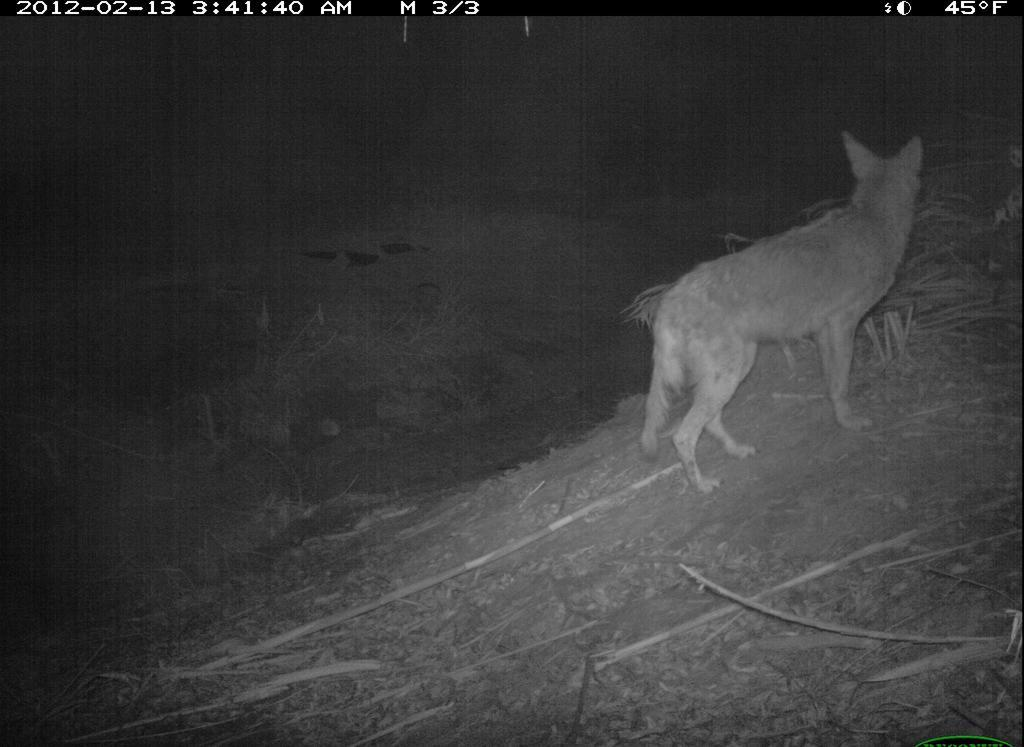coyote: (617, 120, 945, 505)
